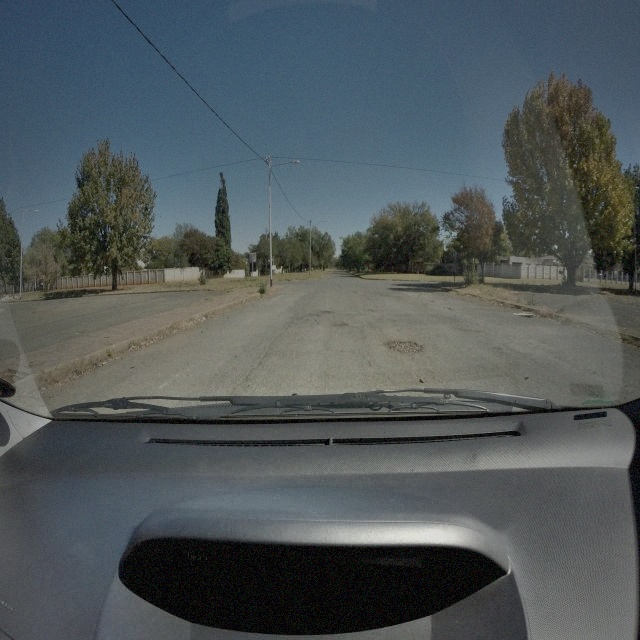pothole: (385, 338, 424, 357), (332, 321, 348, 328)
